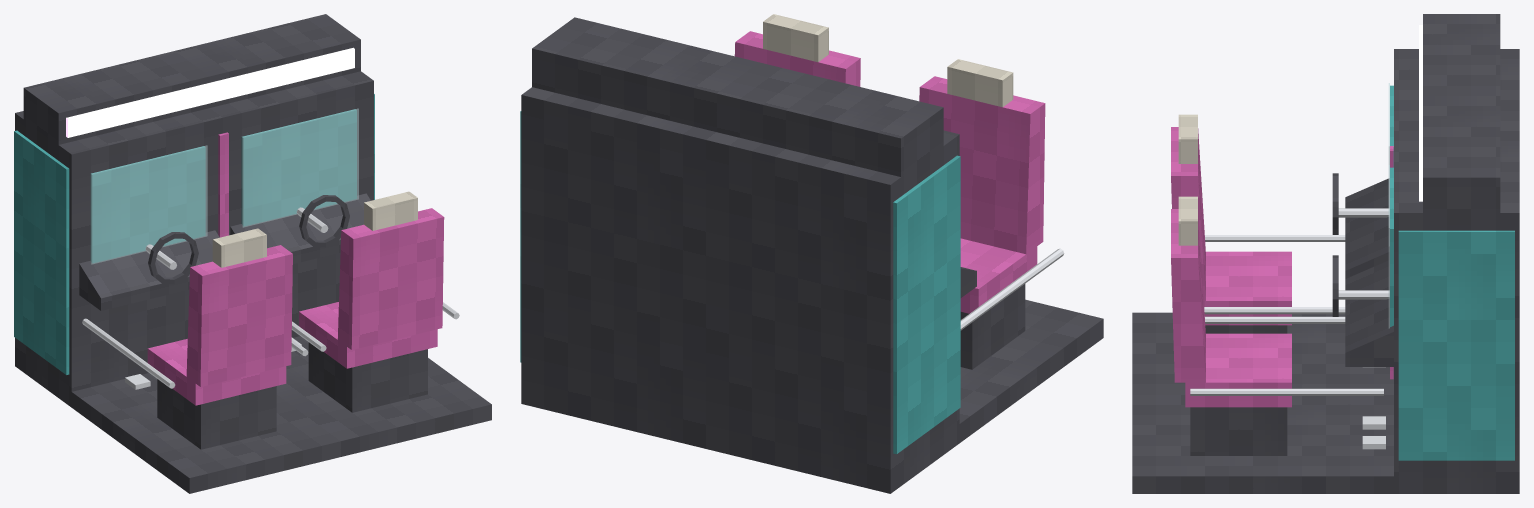
The model's file is three-d-retro-arcade-and-mall-1989-retro-arcade-and-mall-1989-driving-twin-cabinet-a94aee9e.glb.
3 views of the same model, side by side, from view 1: azimuth 30°, elevation 25°; view 2: azimuth 150°, elevation 25°; view 3: azimuth 270°, elevation 25° (orthographic). The views are drawn at different scales.
Visible parts, largest first — view 1: driving-twin-cabinet; view 2: driving-twin-cabinet; view 3: driving-twin-cabinet.
Boxes of the visible parts, x1,y1,x2,y2 form: driving-twin-cabinet: (14, 14, 491, 493); driving-twin-cabinet: (520, 14, 1103, 493); driving-twin-cabinet: (1132, 14, 1519, 493).
Size of the model in its own units: 2.04 by 1.8 by 2.
Materials: 7 (4 with a texture image).
